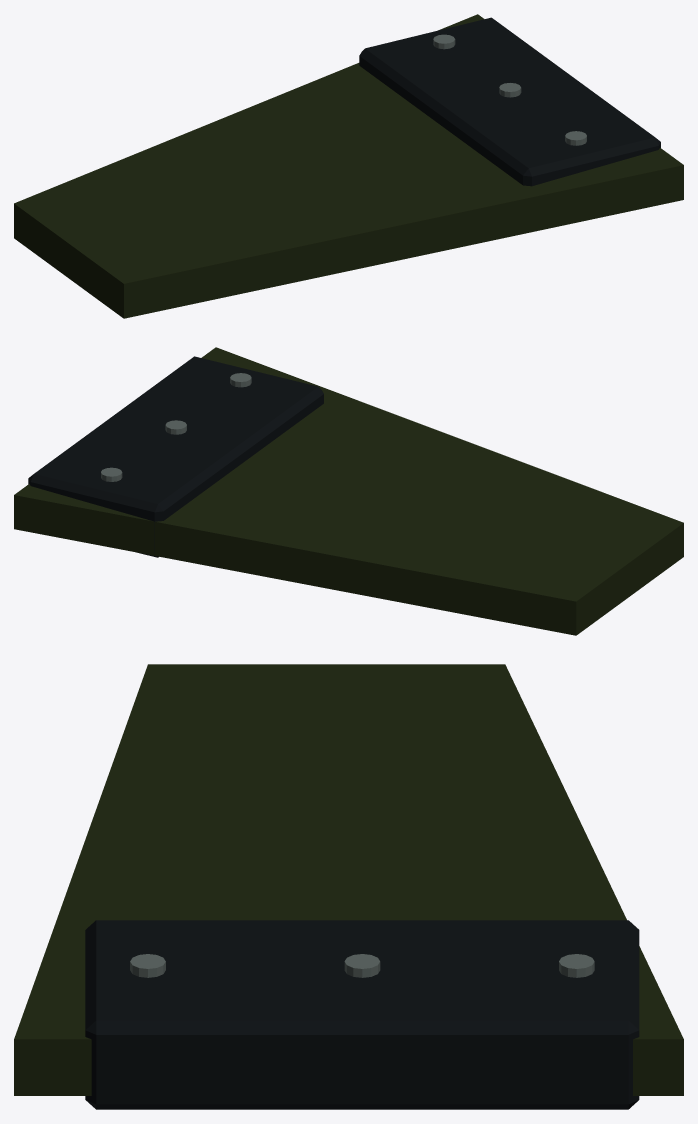
Rendered from StubWing__WingLeft.obj.
The picture shows the model from 3 angles, top to bottom: view 1: azimuth 30°, elevation 25°; view 2: azimuth 150°, elevation 25°; view 3: azimuth 270°, elevation 25°; orthographic projection. The views are drawn at different scales.
Parts seen in each view (by area): view 1: Left_stub_wing, Wing_root_doubler; view 2: Left_stub_wing, Wing_root_doubler; view 3: Left_stub_wing, Wing_root_doubler, Wing_root_fastener.001, Wing_root_fastener.002, Wing_root_fastener.
Boxes of the visible parts, box(x1,y1,x2,y2) form: Left_stub_wing: box(14, 14, 683, 318); Wing_root_doubler: box(359, 17, 660, 186); Left_stub_wing: box(14, 347, 683, 635); Wing_root_doubler: box(28, 356, 323, 557); Left_stub_wing: box(14, 664, 683, 1095); Wing_root_doubler: box(85, 920, 639, 1109); Wing_root_fastener.001: box(344, 954, 380, 977); Wing_root_fastener.002: box(559, 954, 594, 977); Wing_root_fastener: box(130, 954, 165, 977).
Size of the model in its own units: 1.09 by 0.151 by 0.75.
